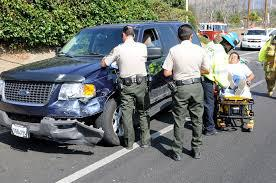front-bumper-dent: (9, 100, 101, 143)
